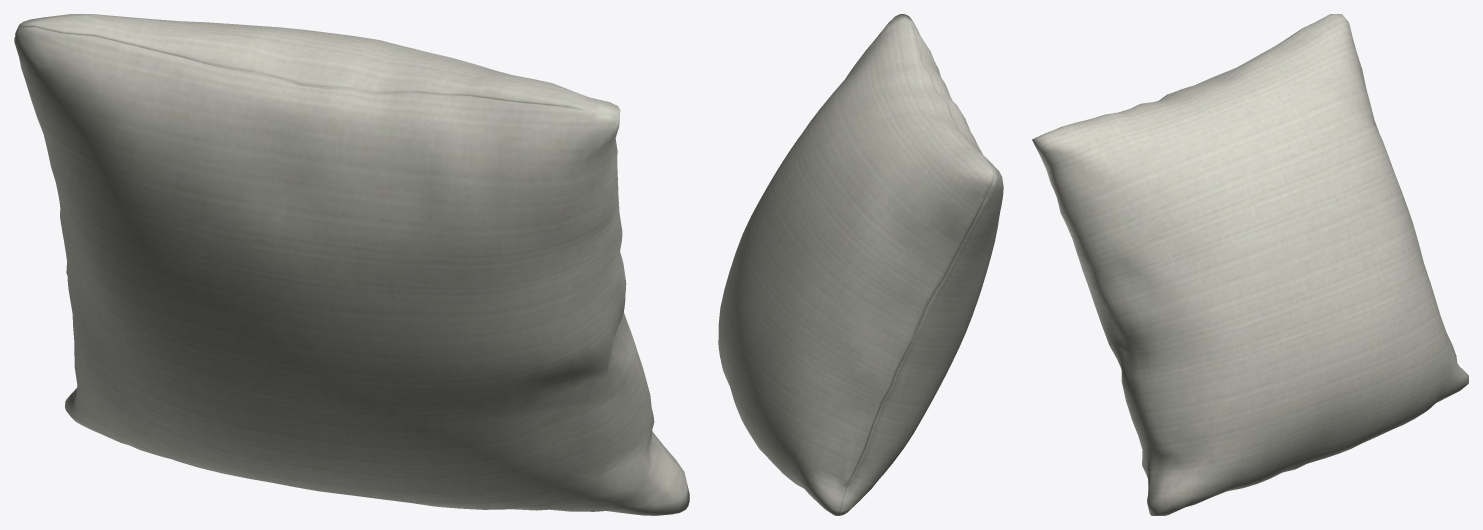
File: MeridaDaybed02_Pillow.glb
The picture shows the model from 3 angles, left to right: view 1: azimuth 30°, elevation 25°; view 2: azimuth 150°, elevation 25°; view 3: azimuth 270°, elevation 25°; orthographic projection. The views are drawn at different scales.
Parts seen in each view (by area): view 1: merida-daybed-cushion01-fabric.001; view 2: merida-daybed-cushion01-fabric.001; view 3: merida-daybed-cushion01-fabric.001.
Part boxes in pixels (x1,y1,x2,y2): merida-daybed-cushion01-fabric.001: (14,14,689,515); merida-daybed-cushion01-fabric.001: (718,14,1003,515); merida-daybed-cushion01-fabric.001: (1032,14,1468,515).
Size of the model in its own units: 0.3886 by 0.3571 by 0.4142.
1 material, 1 textured.
